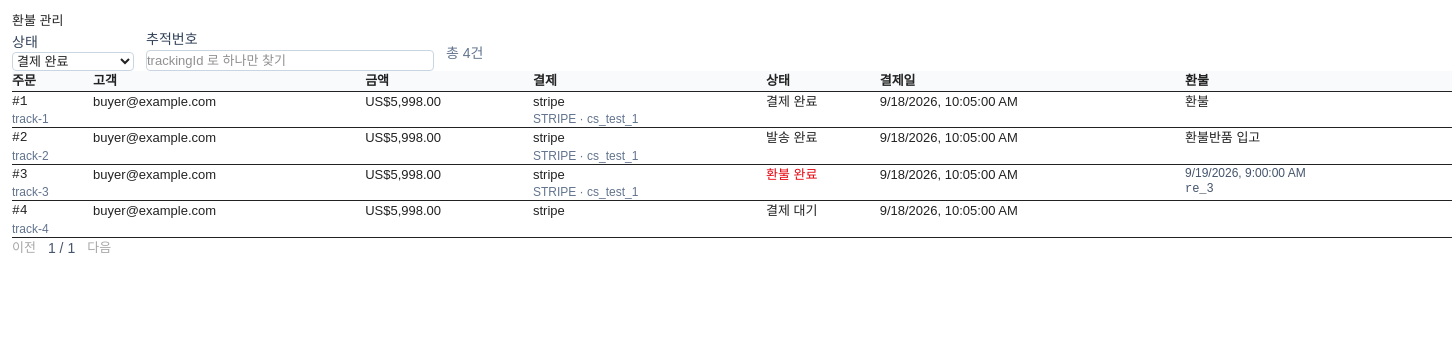
Test case: 환불 관리 › 서버가 거절하면 이유를 보여 준다
This screenshot has width=1452, height=345.
Click the button "환불" in the row of "결제 완료" at (1197, 102), box [1185,92,1209,111]
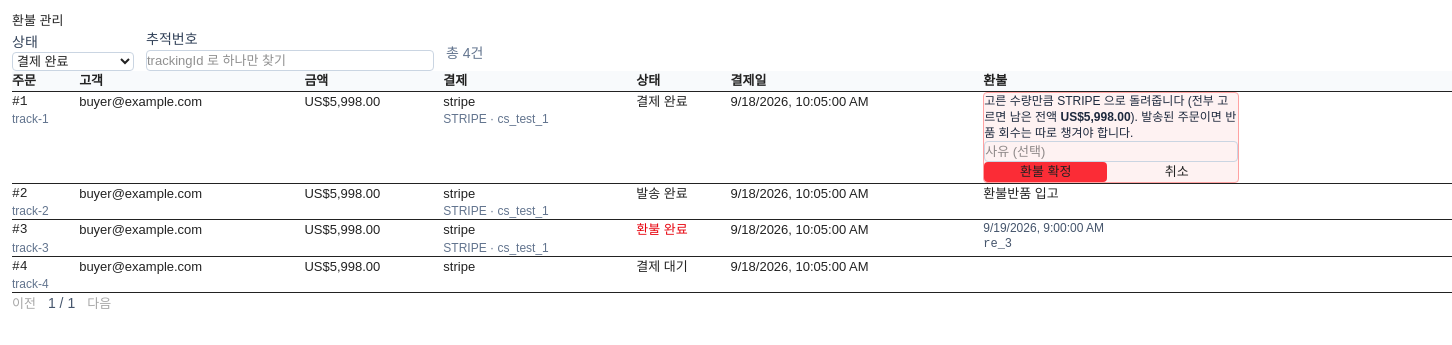
Click the button "환불 확정" at (1046, 172), box [984,162,1107,182]
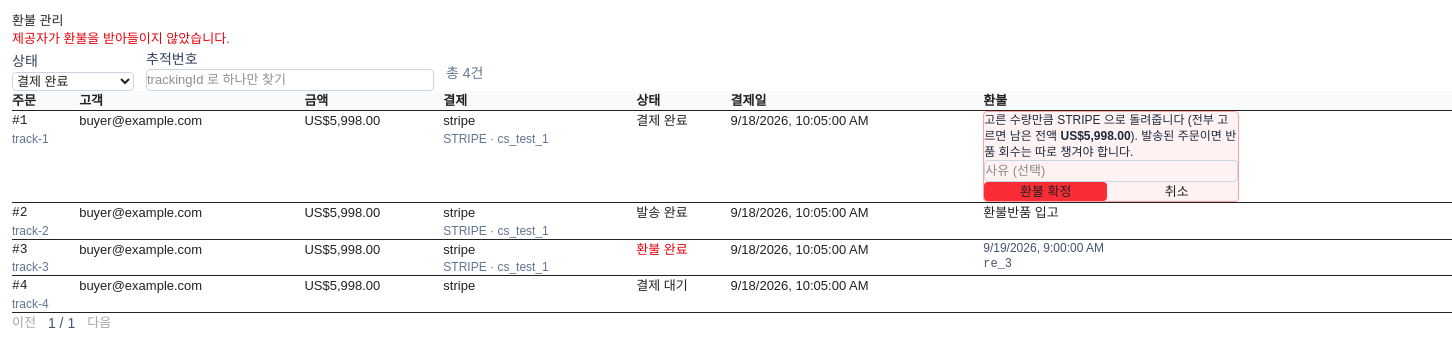
Now the text "제공자가 환불을 받아들이지 않았습니다." is shown, box [12,31,230,46]
